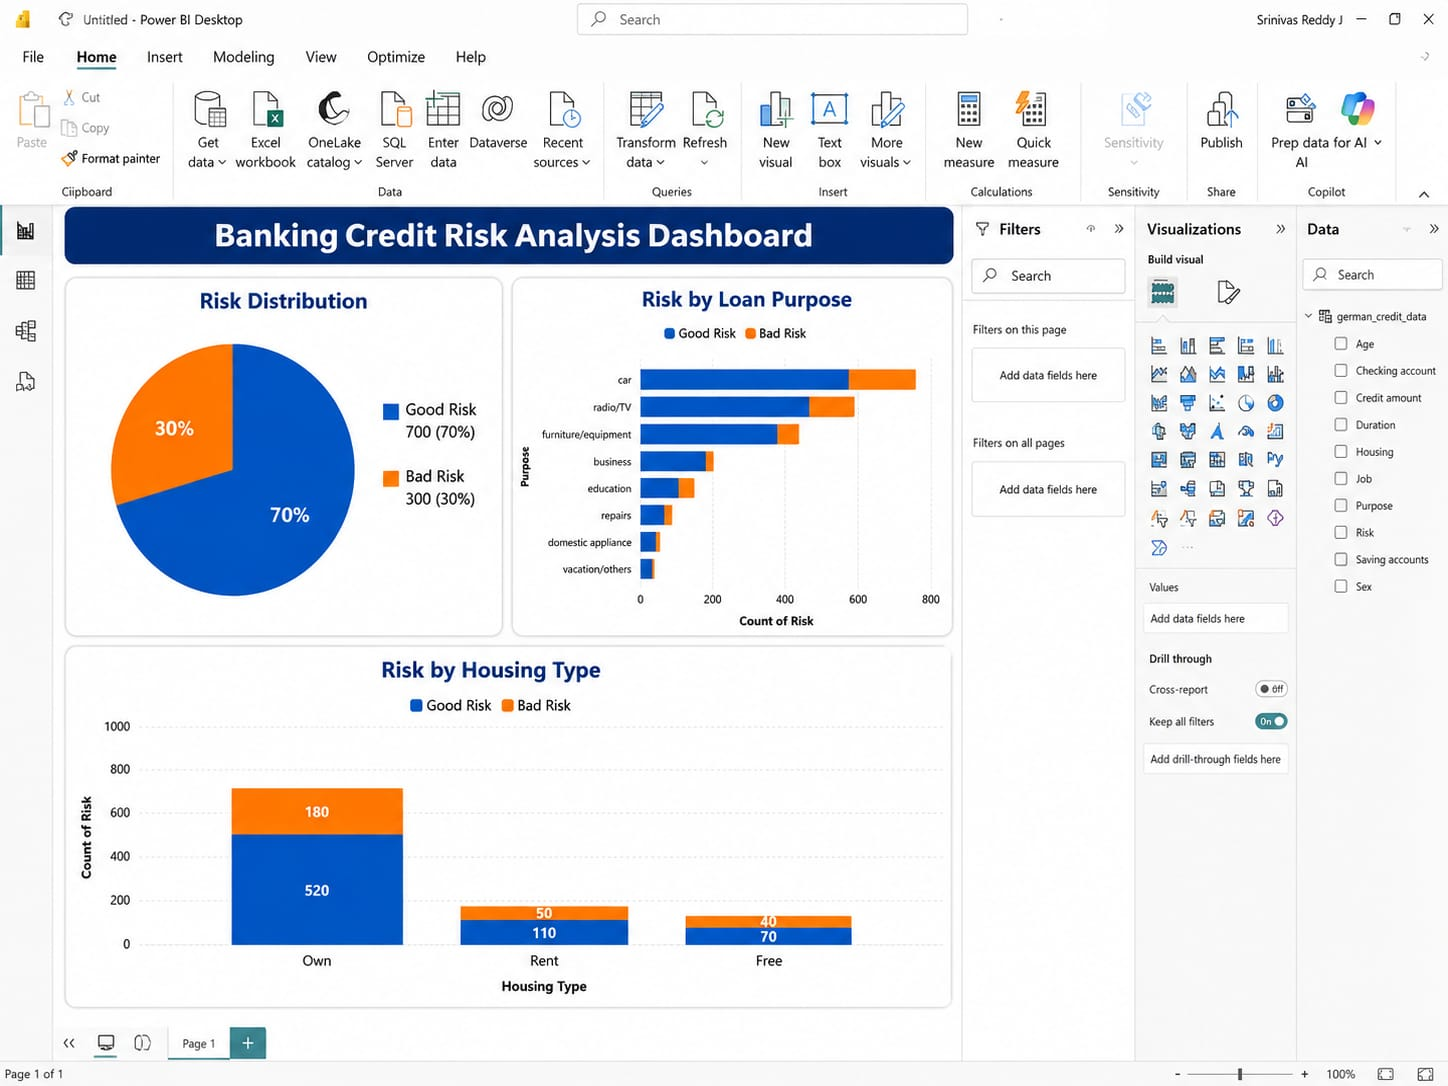

The dashboard page shown, as its layout file describes it:
{"tool":"powerbi","page":{"name":"Page 1","canvas":[1280,720],"ordinal":0},"visuals":[{"type":"columnChart","title":"Risk by Housing Type","fields":{"Category":["german_credit_data.Housing"],"Series":["german_credit_data.Risk"],"Y":["CountNonNull(german_credit_data.Risk)"]},"box":[0,395.6,1280,324.4],"z":0},{"type":"barChart","title":"Risk by Purpose and Risk","fields":{"Category":["german_credit_data.Purpose"],"Series":["german_credit_data.Risk"],"Y":["CountNonNull(german_credit_data.Risk)"]},"box":[630.5,79.3,649.5,315.9],"z":1000},{"type":"pieChart","title":"Risk Distribution","fields":{"Category":["german_credit_data.Risk"],"Y":["CountNonNull(german_credit_data.Risk)"]},"box":[0,77.9,630.4,317.4],"z":2000},{"type":"textbox","box":[0.2,0,1279.8,77.9],"z":3000}]}

Visuals, with their boxes on the page's 1280x720 design canvas (x1, y1, x2, y2). These are canvas units, not pixel positions in the 1448x1086 screenshot, which may show the page scaled, cropped or inside an application window:
"Risk by Housing Type" columnChart: rect(0, 396, 1280, 720)
"Risk by Purpose and Risk" barChart: rect(630, 79, 1280, 395)
"Risk Distribution" pieChart: rect(0, 78, 630, 395)
textbox: rect(0, 0, 1280, 78)
